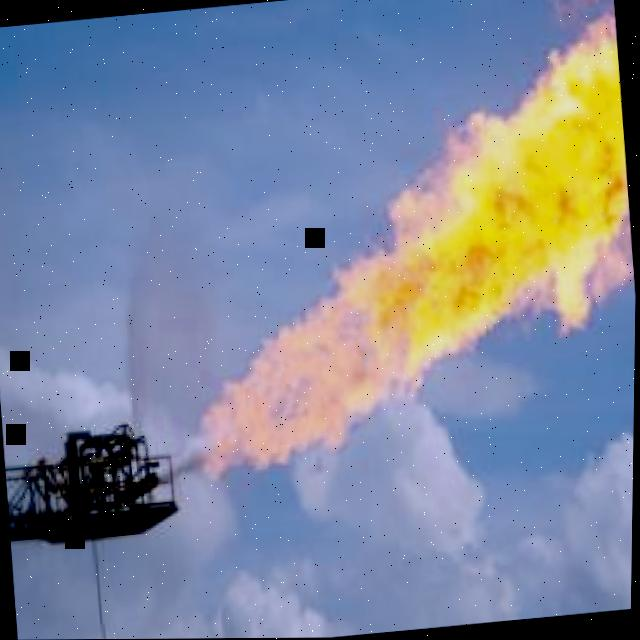fire: (198, 13, 630, 479)
smoke: (125, 209, 256, 457), (590, 220, 634, 308), (550, 0, 615, 35)
